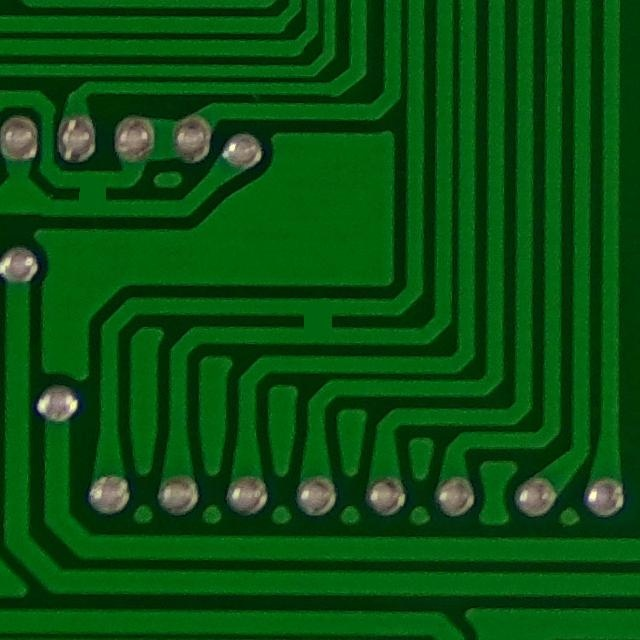short: (290, 293, 351, 346)
